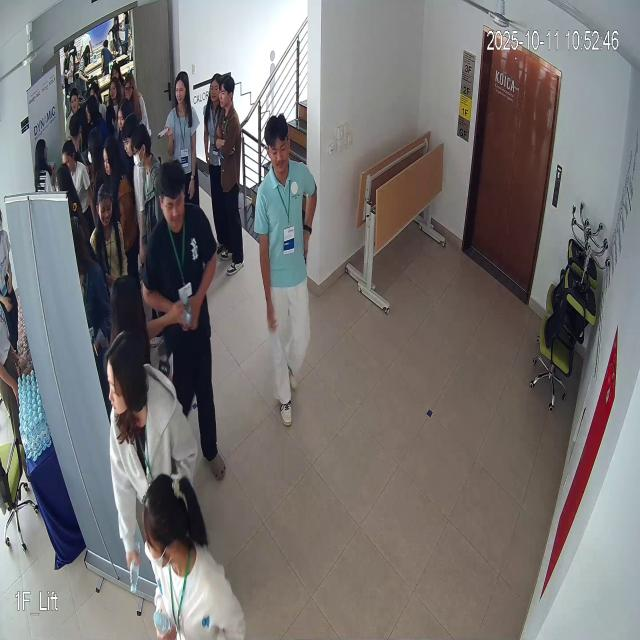face: (152, 154, 192, 232), (262, 107, 296, 184)
